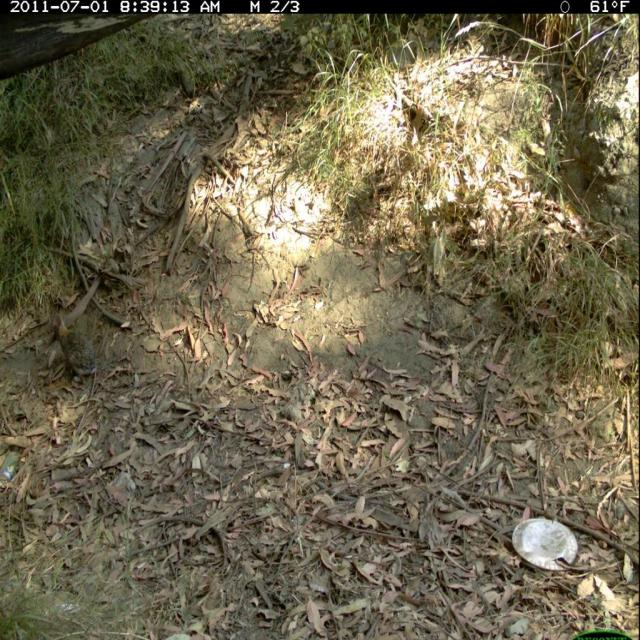rabbit: (49, 307, 100, 383)
